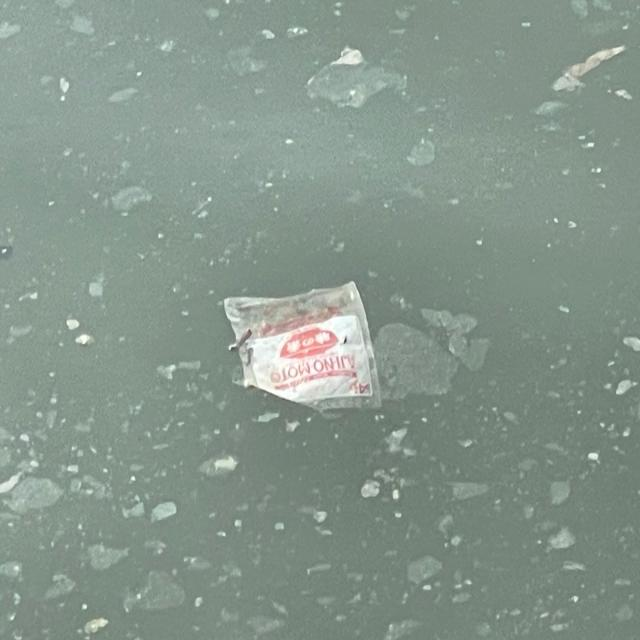Bungkus Makanan: (216, 280, 394, 422)
